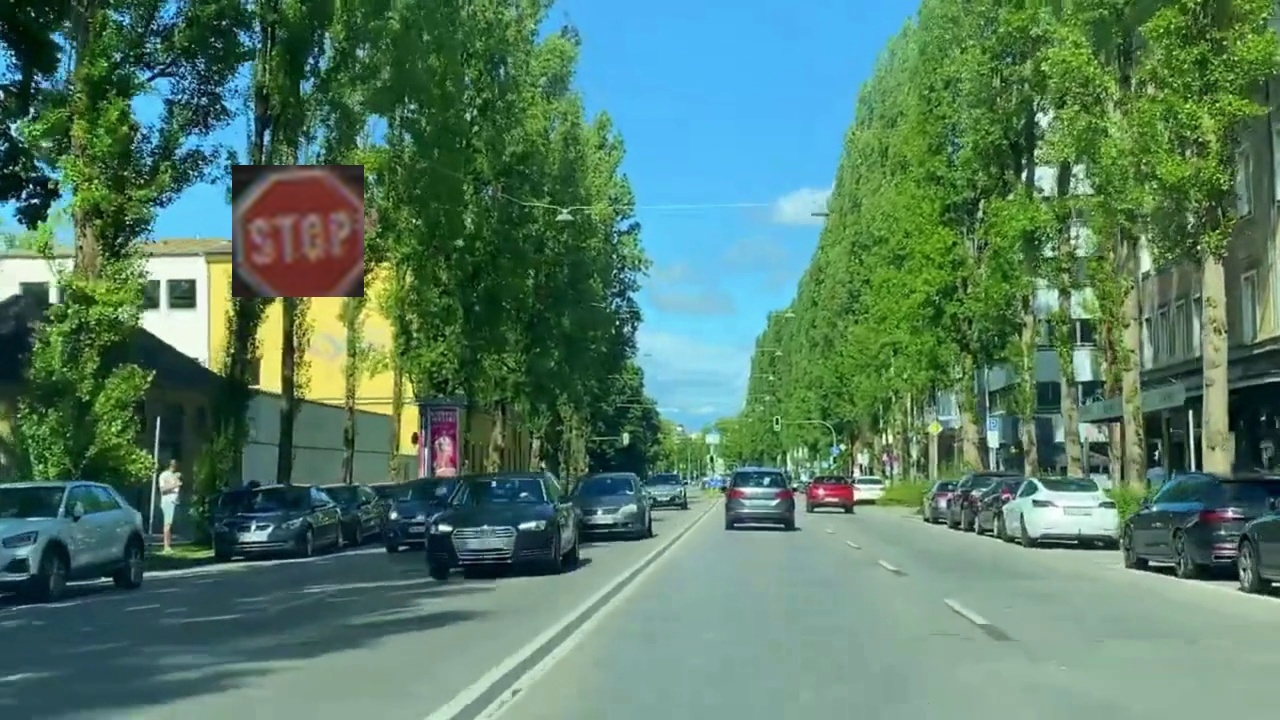Stop: (232, 165, 364, 297)
